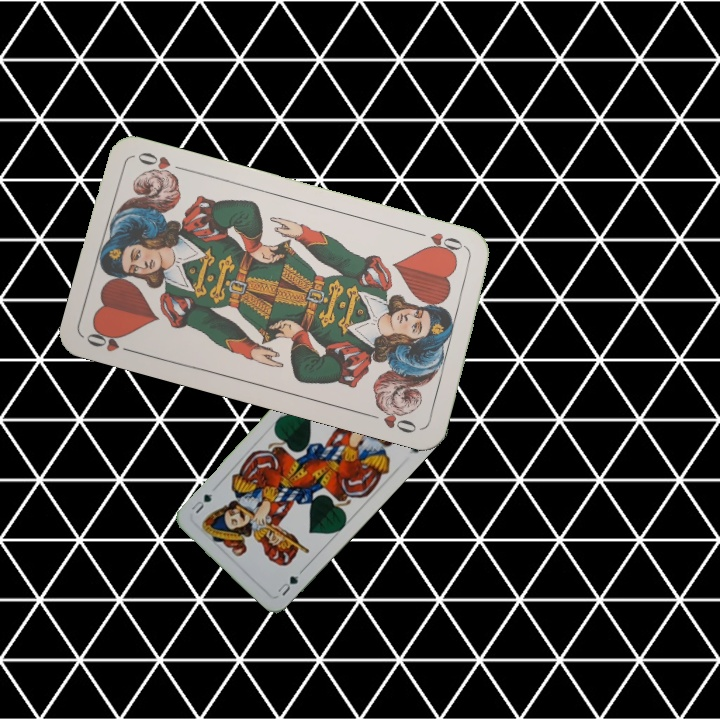GU: (274, 571, 301, 599)
HO: (82, 324, 140, 357), (412, 227, 470, 259)
